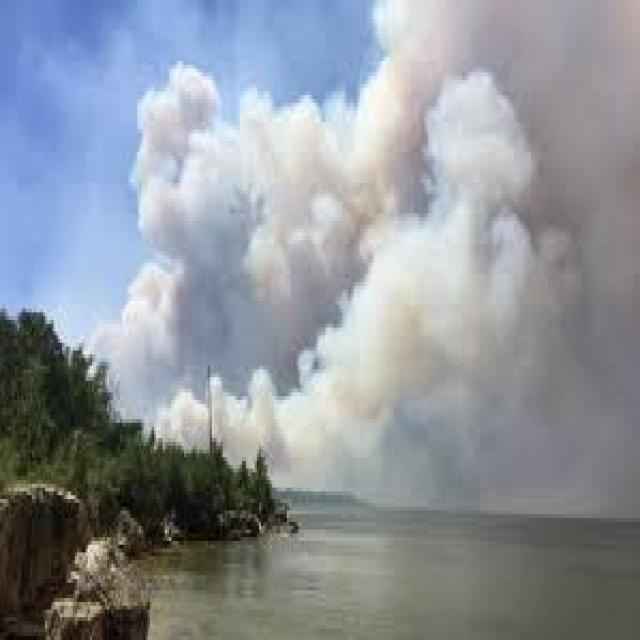Smoke: (387, 4, 640, 476), (156, 82, 380, 437)
